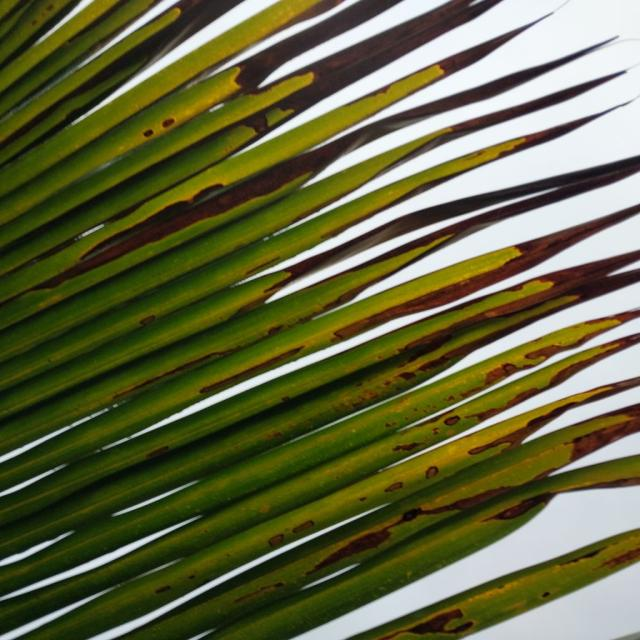gray leaf spot: (82, 0, 640, 640)
